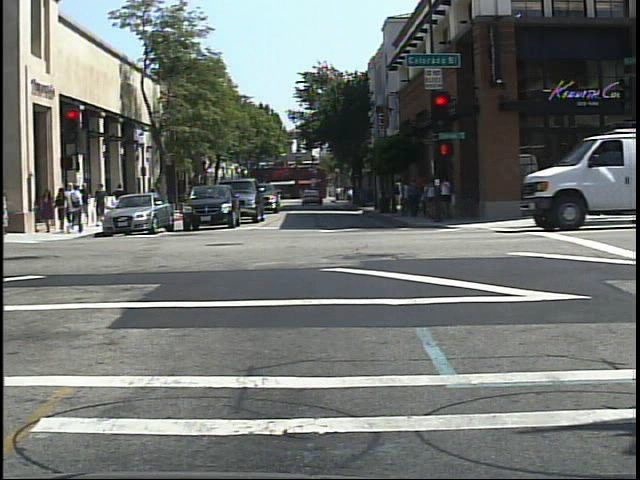person: (65, 181, 88, 238)
